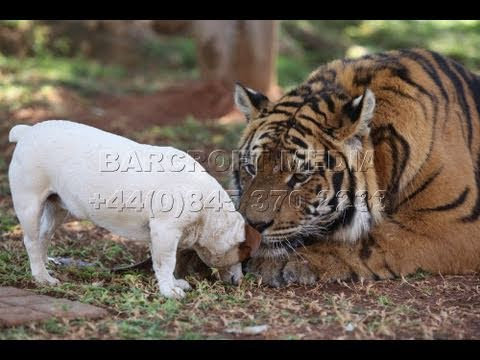dog: (6, 120, 249, 298)
tiger: (229, 49, 479, 287)
